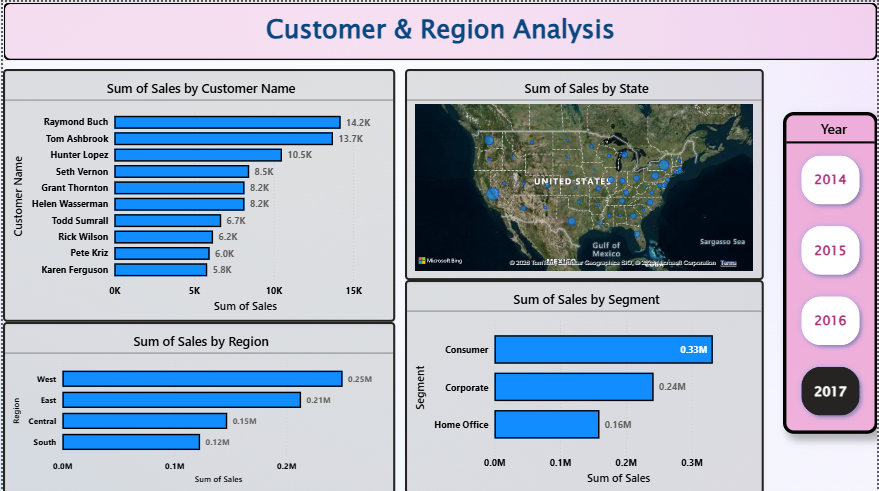

The dashboard page shown, as its layout file describes it:
{"tool":"powerbi","page":{"name":"Customer & Region Analysis","canvas":[1280,720],"ordinal":2},"visuals":[{"type":"clusteredBarChart","fields":{"Category":["clean.Customer Name"],"Y":["Sum(clean.Sales)"]},"box":[0,98,573.7,370.2],"z":0},{"type":"clusteredBarChart","fields":{"Category":["clean.Region"],"Y":["Sum(clean.Sales)"]},"box":[0,468.3,573.7,251.7],"z":1000},{"type":"map","fields":{"Category":["clean.State"],"Size":["Sum(clean.Sales)"]},"box":[588.3,98,525.4,308.8],"z":2000},{"type":"clusteredBarChart","fields":{"Category":["clean.Segment"],"Y":["Sum(clean.Sales)"]},"box":[588.3,406.8,525.4,313.2],"z":3000},{"type":"advancedSlicerVisual","fields":{"Values":["clean.Order Date.Variation.Date Hierarchy.Year"]},"box":[1141.5,161,139,471.2],"z":4000},{"type":"textbox","box":[0,0,1280.5,86.3],"z":5000}]}

Visuals, with their boxes in screenshot pixels (x1, y1, x2, y2), scaled from the page's 1280x720 canvas onto the 879x491 screenshot:
clusteredBarChart - clean.Customer Name x Sum(clean.Sales): left=0, top=67, right=394, bottom=319
clusteredBarChart - clean.Region x Sum(clean.Sales): left=0, top=319, right=394, bottom=490
map - clean.State x Sum(clean.Sales): left=404, top=67, right=765, bottom=277
clusteredBarChart - clean.Segment x Sum(clean.Sales): left=404, top=277, right=765, bottom=490
advancedSlicerVisual - clean.Order Date.Variation.Date Hierarchy.Year: left=784, top=110, right=878, bottom=431
textbox: left=0, top=0, right=878, bottom=59
